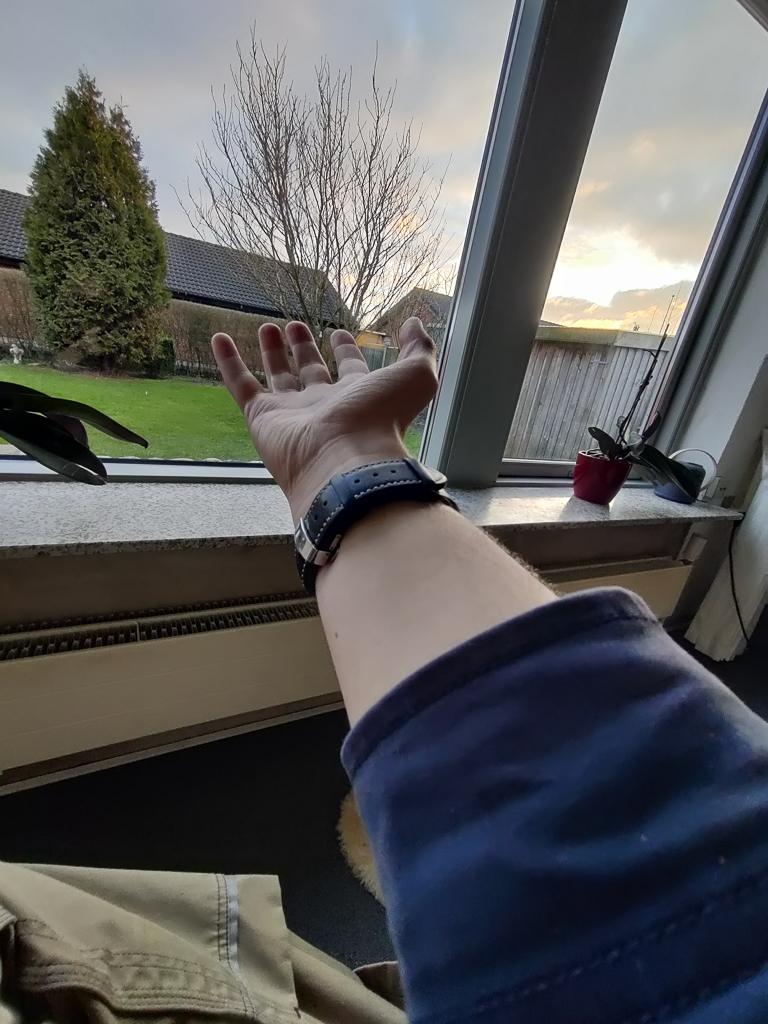Eagle: (7, 342, 28, 367)
Humanoid: (0, 288, 768, 1024)
